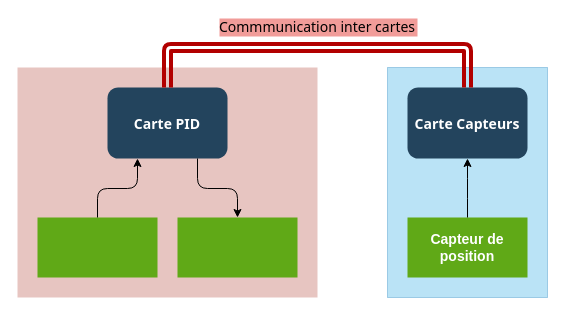
This 565x315 diagram has some shape labels left out. Each missing label, with the centre of its shape:
"Capteurs de ligne" goes at point (97, 247).
"Moteurs" goes at point (237, 247).
